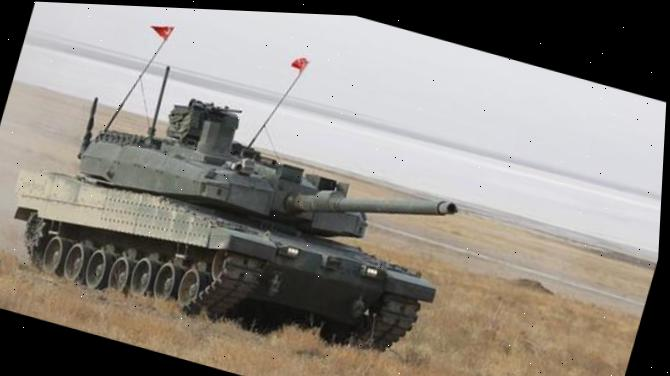tank: (0, 33, 480, 376)
